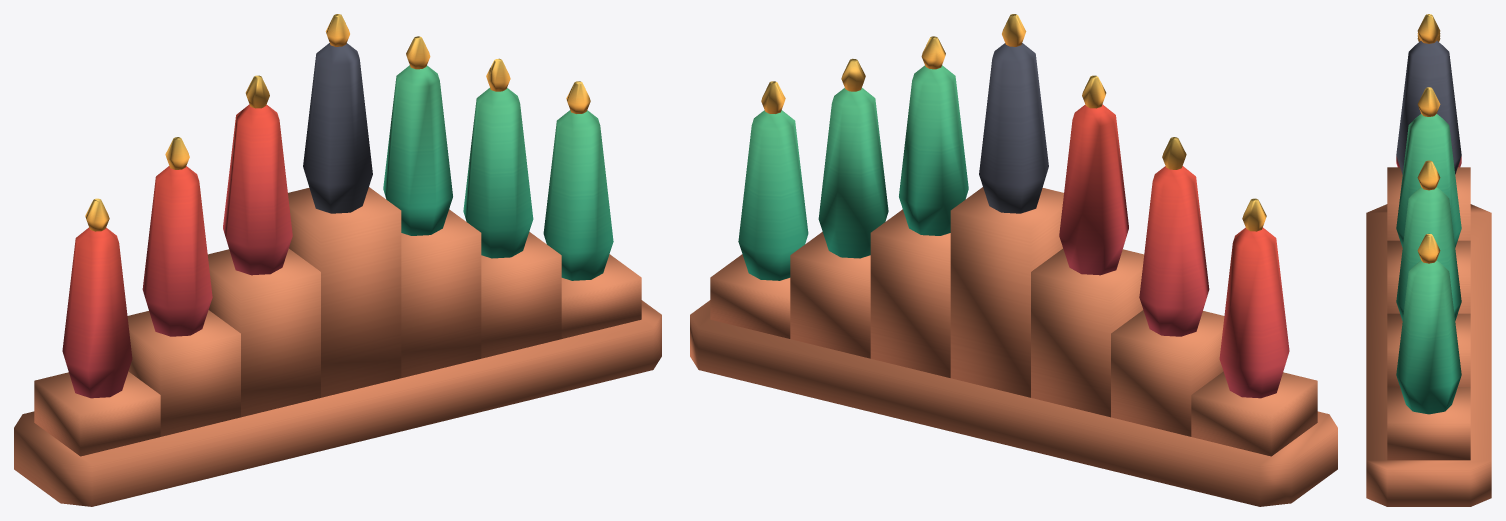
Rendered from kwanzaa-kinara-alternative_lev3.glb.
3 views of the same model, side by side, from view 1: azimuth 30°, elevation 25°; view 2: azimuth 150°, elevation 25°; view 3: azimuth 270°, elevation 25° (orthographic). The views are drawn at different scales.
Parts seen in each view (by area): view 1: kwanzaa-kinara-alternative_lev3; view 2: kwanzaa-kinara-alternative_lev3; view 3: kwanzaa-kinara-alternative_lev3.
Part boxes in pixels (x1,y1,x2,y2): kwanzaa-kinara-alternative_lev3: (14,14,661,506); kwanzaa-kinara-alternative_lev3: (690,14,1337,506); kwanzaa-kinara-alternative_lev3: (1366,14,1491,506).
Size of the model in its own units: 0.75 by 0.4735 by 0.15.
1 material, 1 textured.
